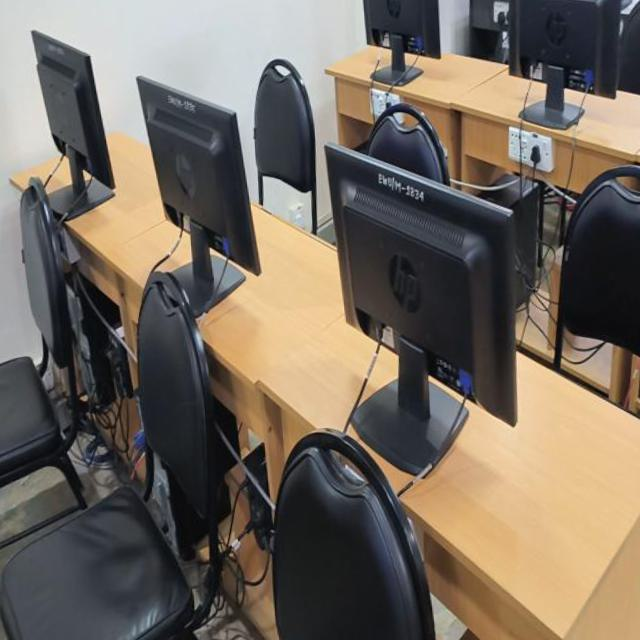Chair: (49, 270, 249, 639), (0, 181, 123, 621), (506, 194, 640, 444), (270, 418, 399, 639), (275, 84, 324, 237), (571, 41, 636, 141), (356, 129, 430, 204), (573, 479, 604, 583), (593, 0, 626, 40)
Cpu: (453, 196, 504, 313), (117, 281, 136, 380)
Monitor: (332, 162, 482, 462), (183, 94, 274, 312), (484, 9, 579, 158), (100, 50, 159, 193), (368, 0, 429, 113), (534, 0, 597, 27), (473, 0, 524, 14)
